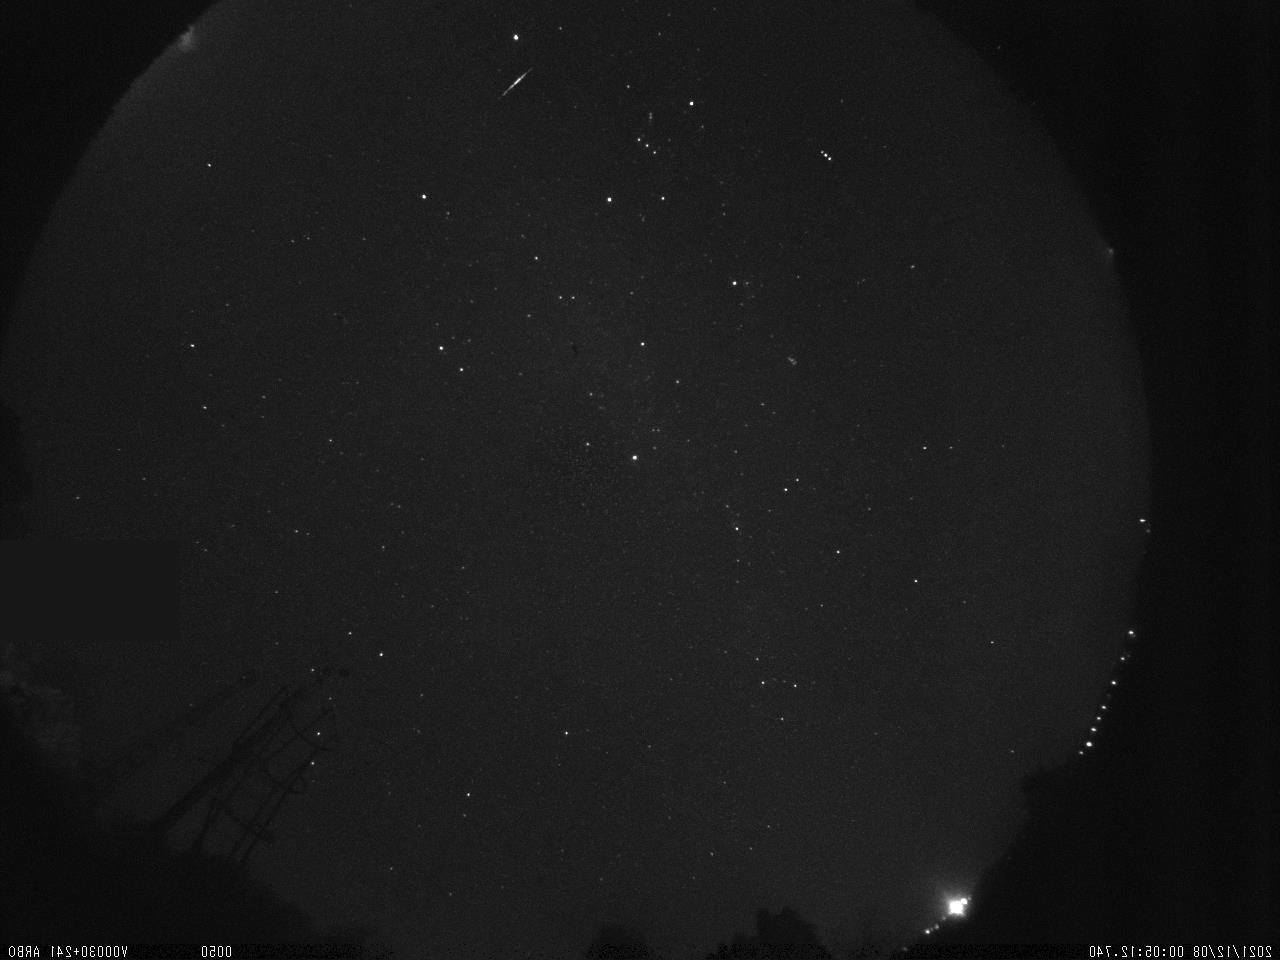meteor: (490, 54, 543, 104)
